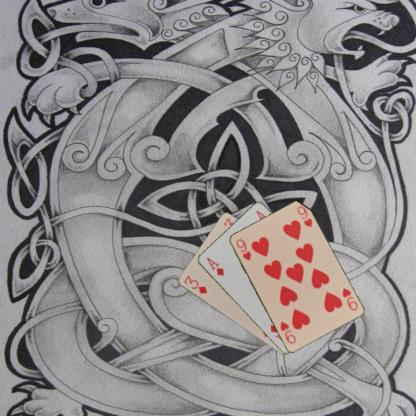3d: (181, 273, 208, 295)
9h: (339, 286, 359, 312), (233, 236, 252, 262)
Ad: (204, 255, 226, 277)
